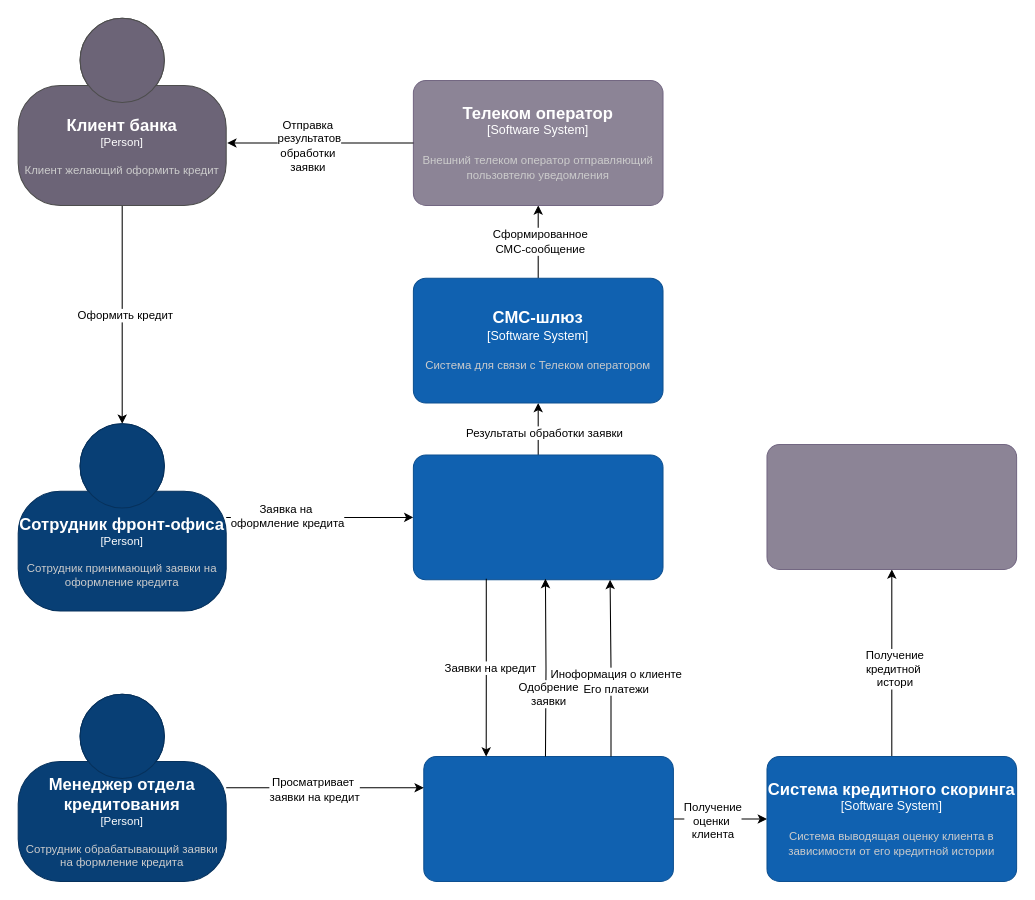
The diagram is 1035 pixels wide and 900 high, and some of its shapes have lost their labels. The shapes that lost their labels are listed below. From the top down, each one's centre as x and y in pixels, then its label:
At pixel 537 517: "АБС [Software System] Система храянщая информацию о клиенте".
At pixel 891 506: "Бюро кредитных историй [Software System] Система храянщая кредитную историю".
At pixel 548 818: "Кредитный конвейр [Software System] Приложения для обработки кредитных заявок".
